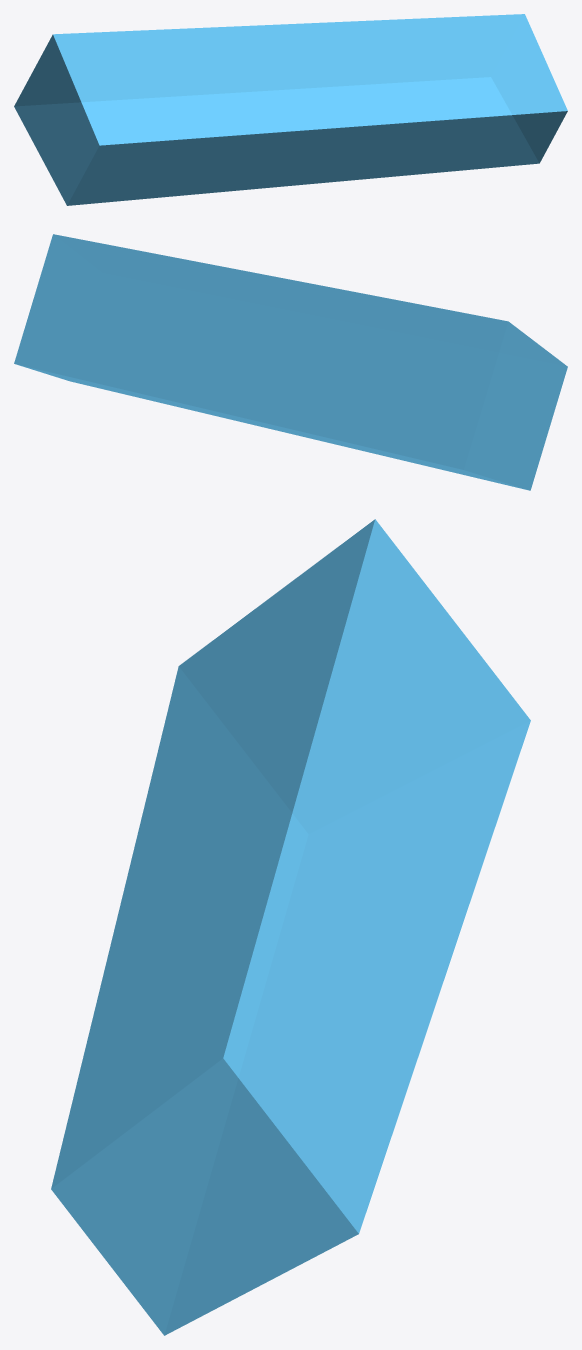
File: Event_421556567_HErechit_18.fbx
3 views of the same model, one above another, from view 1: azimuth 30°, elevation 25°; view 2: azimuth 150°, elevation 25°; view 3: azimuth 270°, elevation 25° (orthographic). The views are drawn at different scales.
Visible parts, largest first — view 1: Model; view 2: Model; view 3: Model.
Boxes of the visible parts, left/top/right/bottom form: Model: left=14, top=14, right=567, bottom=205; Model: left=14, top=234, right=567, bottom=490; Model: left=51, top=519, right=530, bottom=1335.
Bounding box in the file's own units: 1.5 × 0.6436 × 0.7118.
